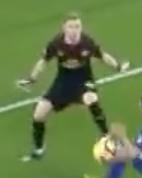goalkeeper: (12, 4, 142, 161)
